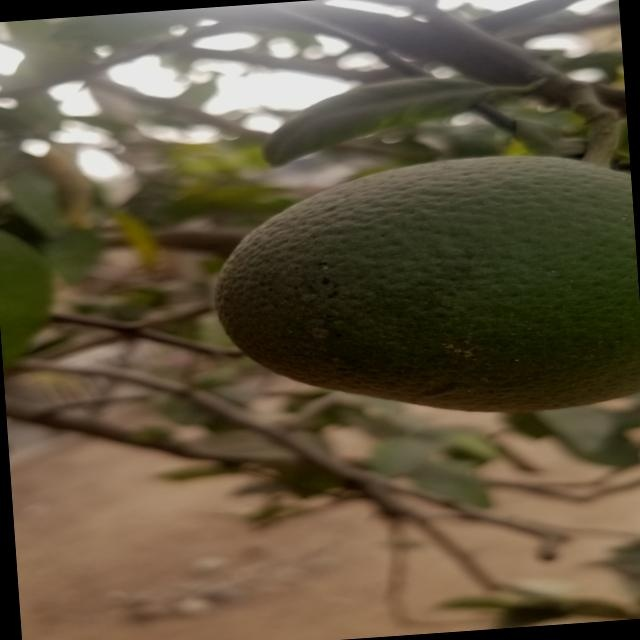agrume: (214, 141, 640, 430)
